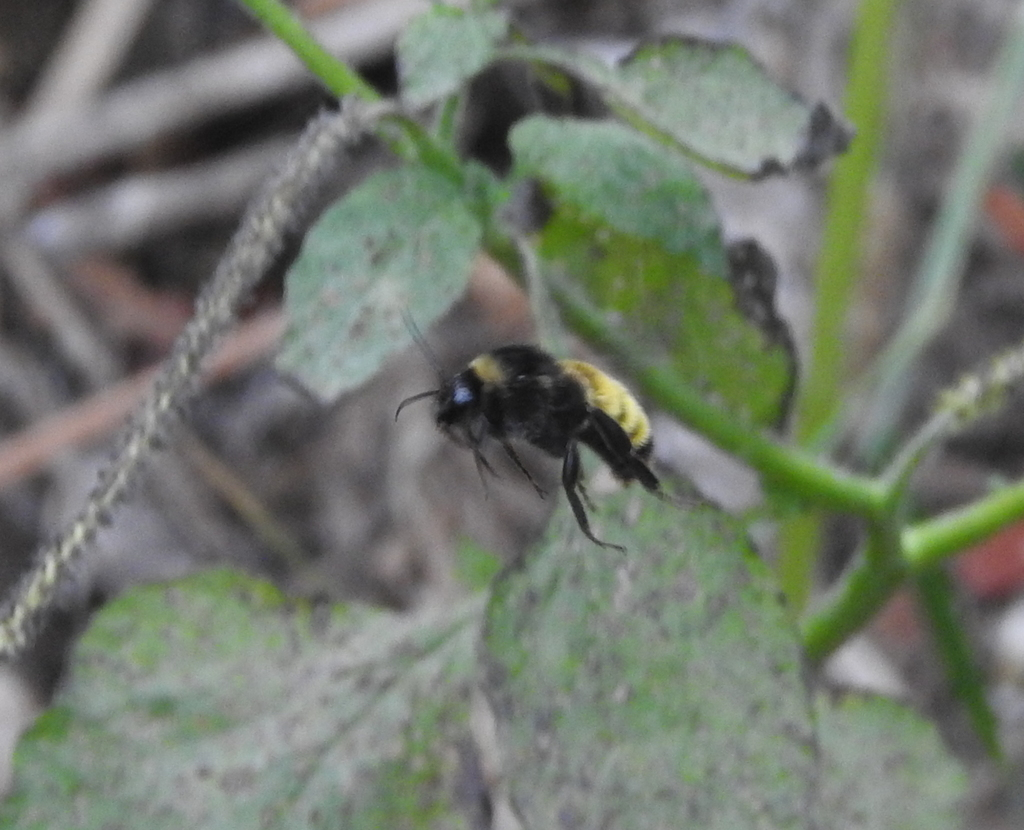bumblebee: (393, 343, 673, 556)
